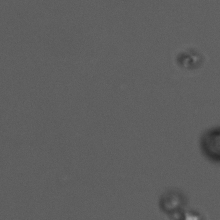Dead Cell: (157, 187, 190, 212), (199, 127, 219, 161), (176, 48, 204, 69)
